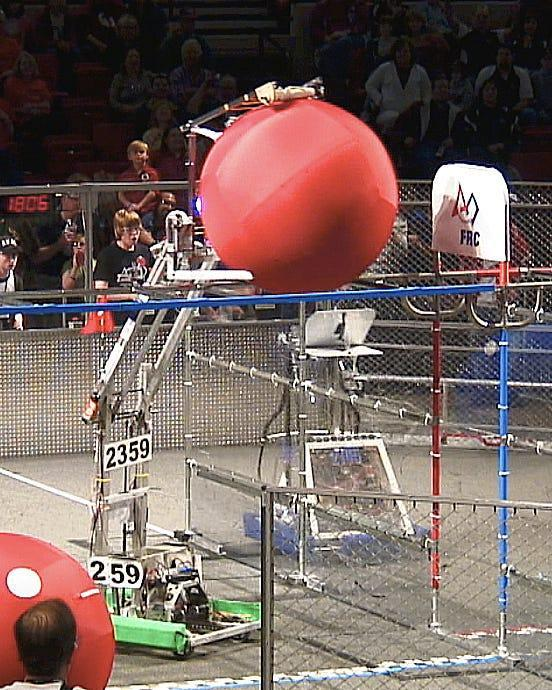robot: (70, 198, 273, 662)
